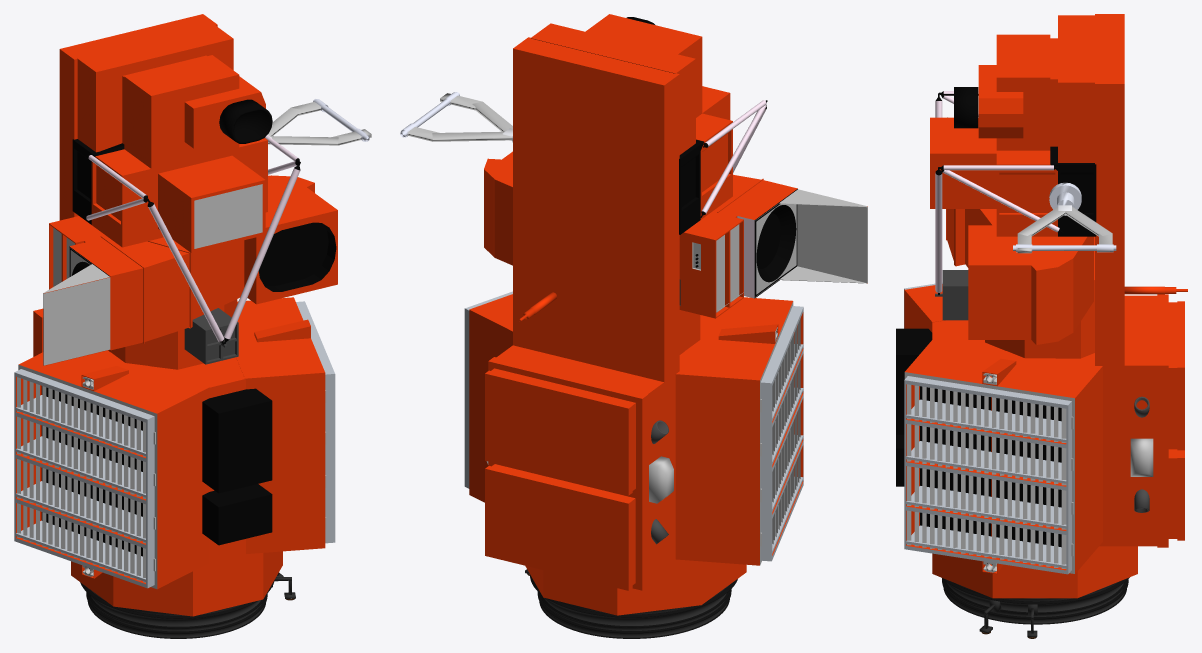
File: Landsat_Cuerpo.obj
3 renders of one model, left to right at view 1: azimuth 30°, elevation 25°; view 2: azimuth 150°, elevation 25°; view 3: azimuth 270°, elevation 25°, orthographic. The views are drawn at different scales.
Size of the model in its own units: 1.37 by 1.94 by 0.9525.
